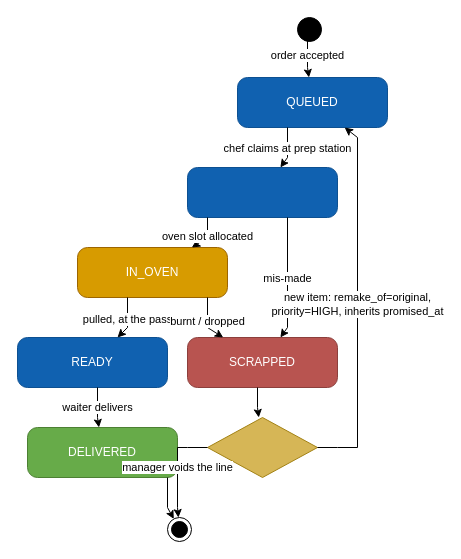
The diagram is 461 pixels wide and 559 high, and some of its shapes have lost their labels. The shapes that lost their labels are listed below. From the top down, each one's centre as x and y in pixels, then its label:
point (262, 192): PREPPING
point (262, 447): remake?
